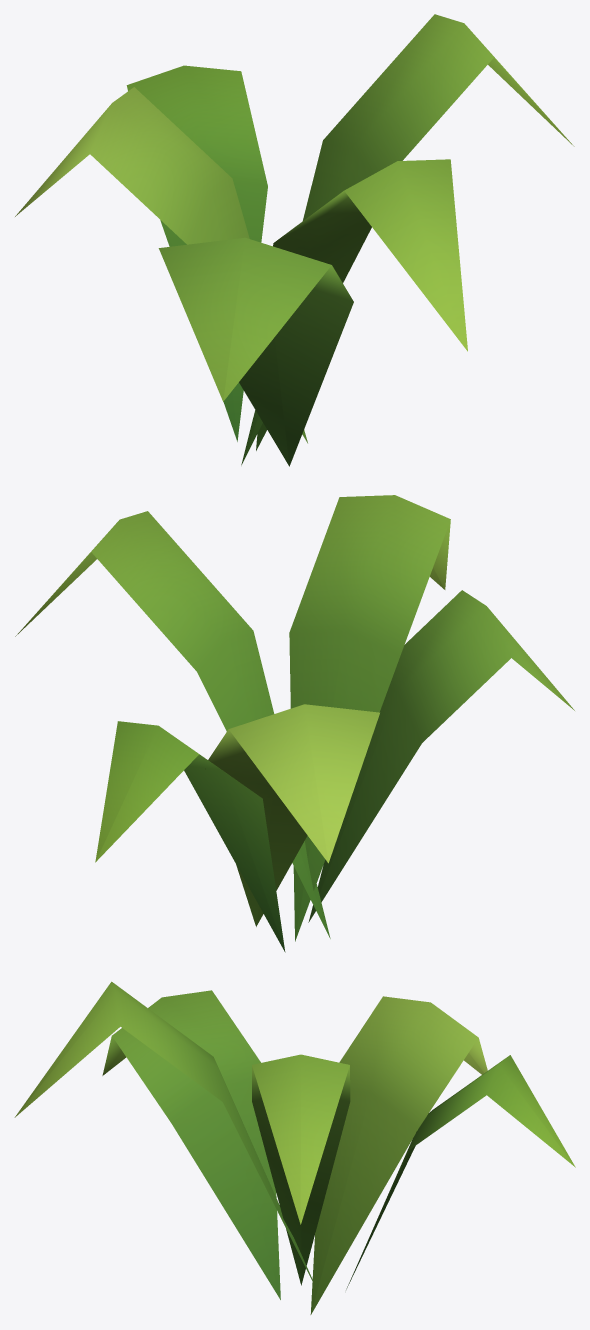
File: Grass_Rosette_C_Low.fbx
3 renders of one model, top to bottom at view 1: azimuth 30°, elevation 25°; view 2: azimuth 150°, elevation 25°; view 3: azimuth 270°, elevation 25°, orthographic. The views are drawn at different scales.
Parts seen in each view (by area): view 1: Grass_Rosette_C_Low; view 2: Grass_Rosette_C_Low; view 3: Grass_Rosette_C_Low.
Boxes of the visible parts, box(x1,y1,x2,y2) form: Grass_Rosette_C_Low: box(15, 14, 574, 466); Grass_Rosette_C_Low: box(15, 495, 574, 952); Grass_Rosette_C_Low: box(14, 981, 575, 1314).
Size of the model in its own units: 0.4204 by 0.3306 by 0.5237.
